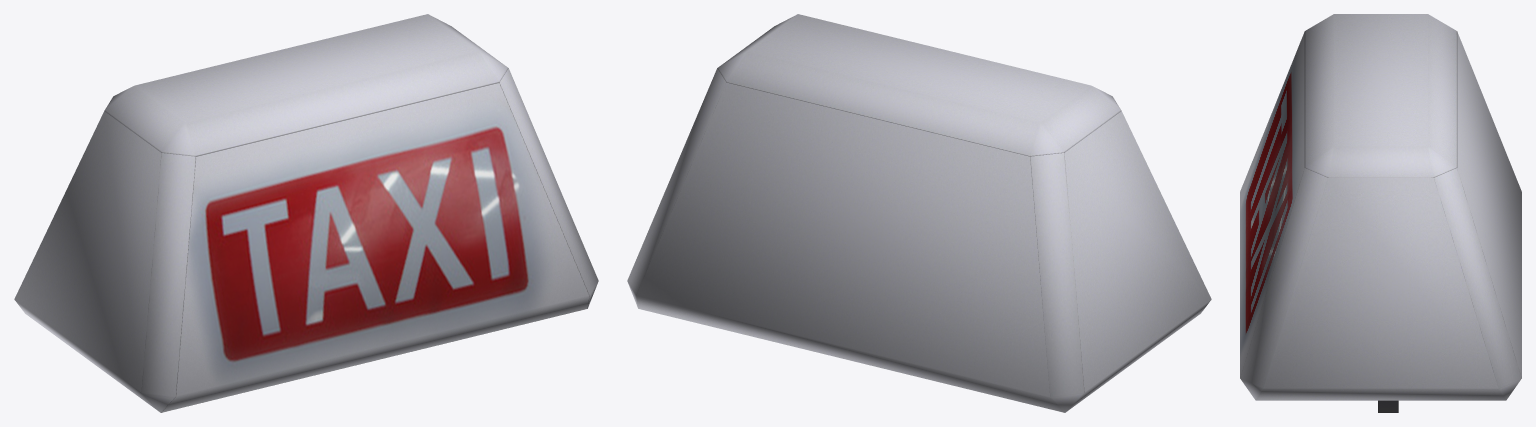
The model's file is chuzuchedeng01.FBX.
3 views of the same model, side by side, from view 1: azimuth 30°, elevation 25°; view 2: azimuth 150°, elevation 25°; view 3: azimuth 270°, elevation 25° (orthographic). The views are drawn at different scales.
Parts seen in each view (by area): view 1: chuzuchedeng; view 2: chuzuchedeng; view 3: chuzuchedeng.
Part boxes in pixels (x1,y1,x2,y2): chuzuchedeng: [14, 14, 598, 412]; chuzuchedeng: [627, 14, 1211, 412]; chuzuchedeng: [1240, 14, 1521, 412].
Size of the model in its own units: 250 by 150 by 144.
